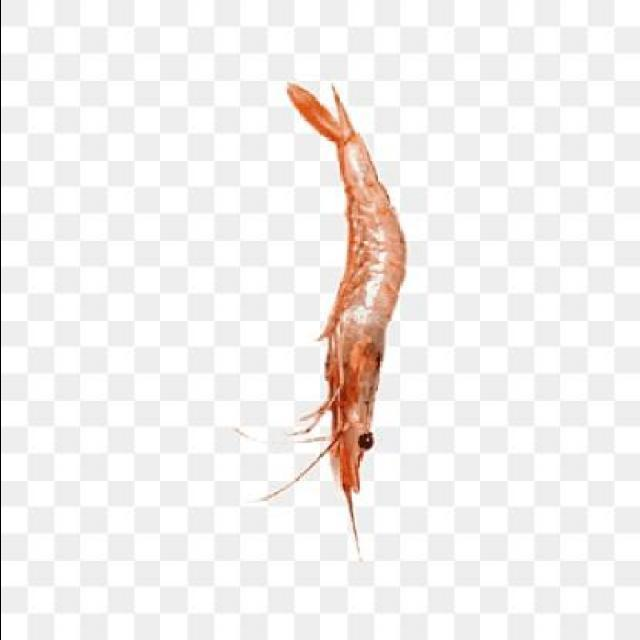shrimp: (276, 73, 412, 536)
